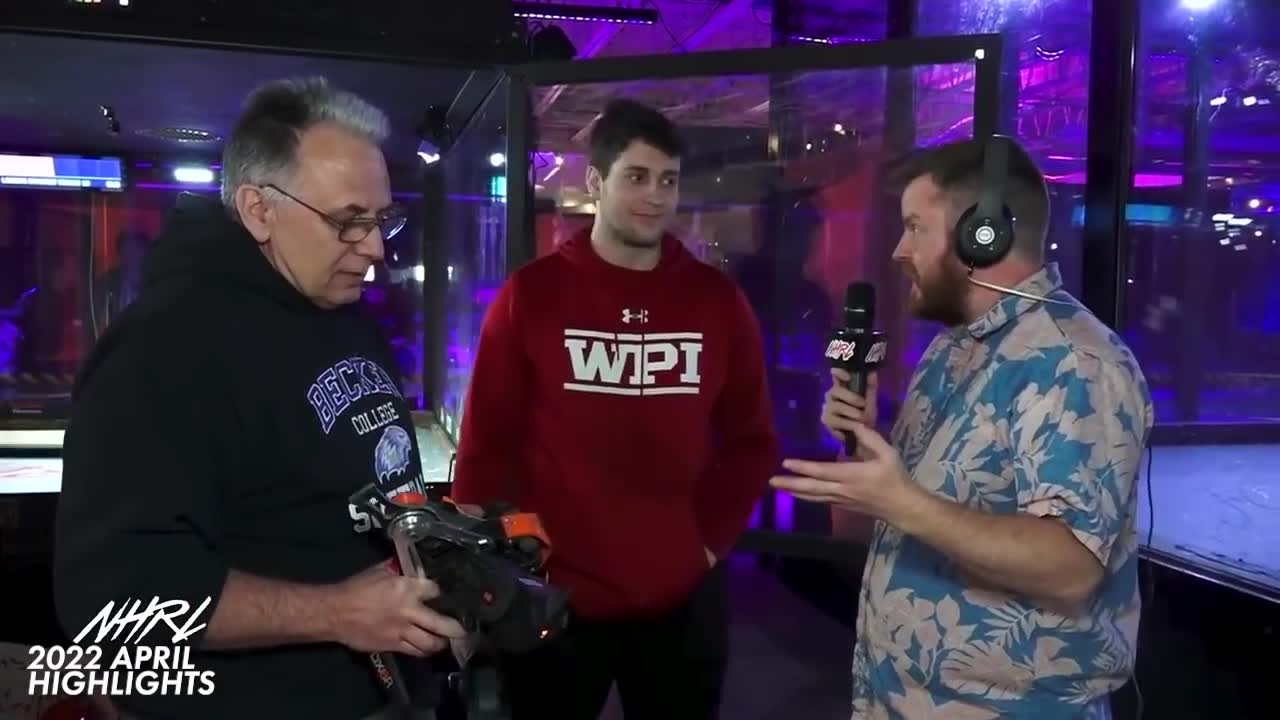combatbot: (352, 484, 552, 647)
